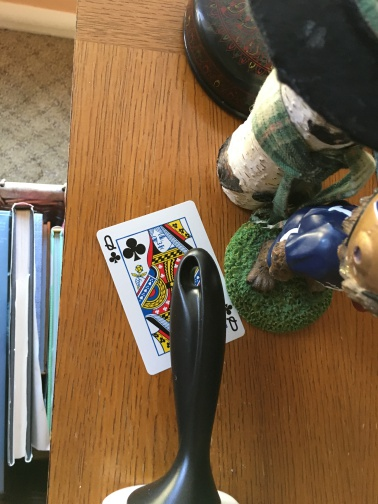queen: (95, 197, 247, 376)
